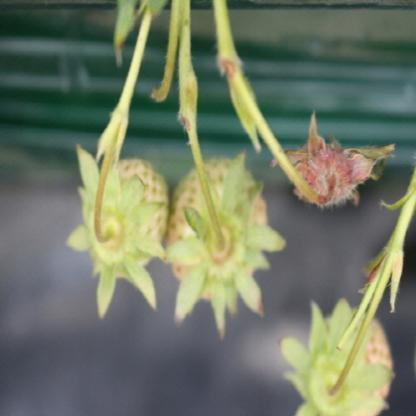Strawberry_Gray_Mold: (270, 110, 397, 207)
